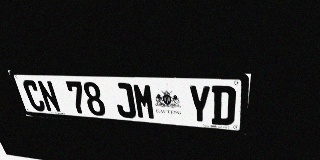7: (64, 81, 90, 115)
8: (81, 82, 107, 116)
C: (21, 80, 47, 112)
D: (211, 85, 236, 126)
J: (112, 82, 137, 118)
M: (132, 83, 156, 120)
N: (36, 80, 62, 113)
Y: (188, 85, 211, 124)
